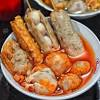bakso: (7, 11, 97, 94)
